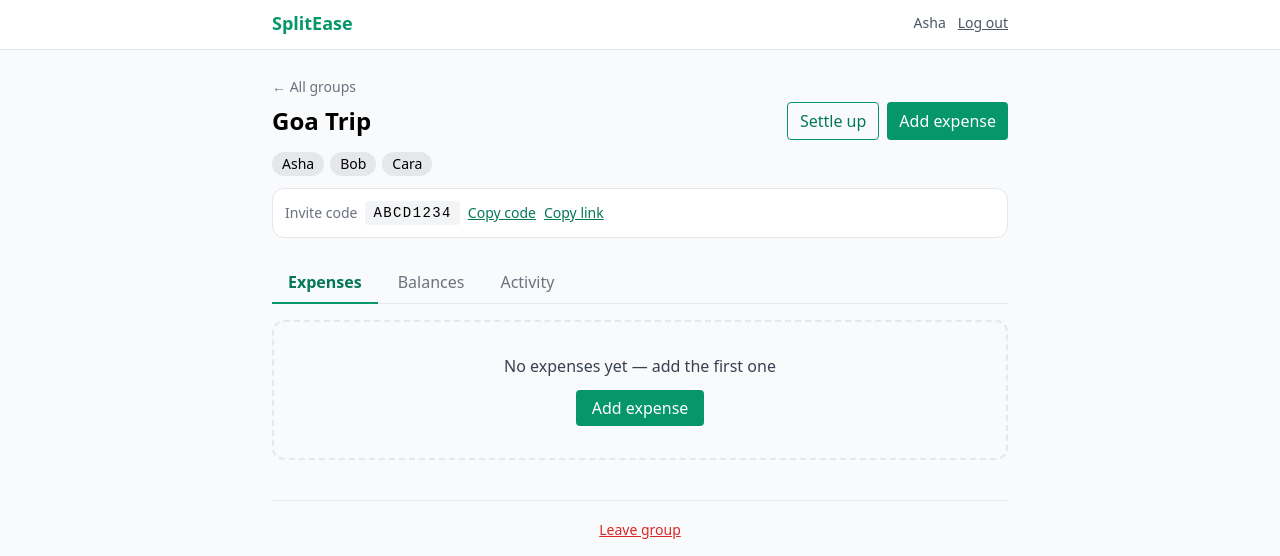
activity tab › shows expenses and settlements in one timeline
This screenshot has width=1280, height=556.
Click the tab "Activity" at (527, 283), box [484, 262, 570, 304]
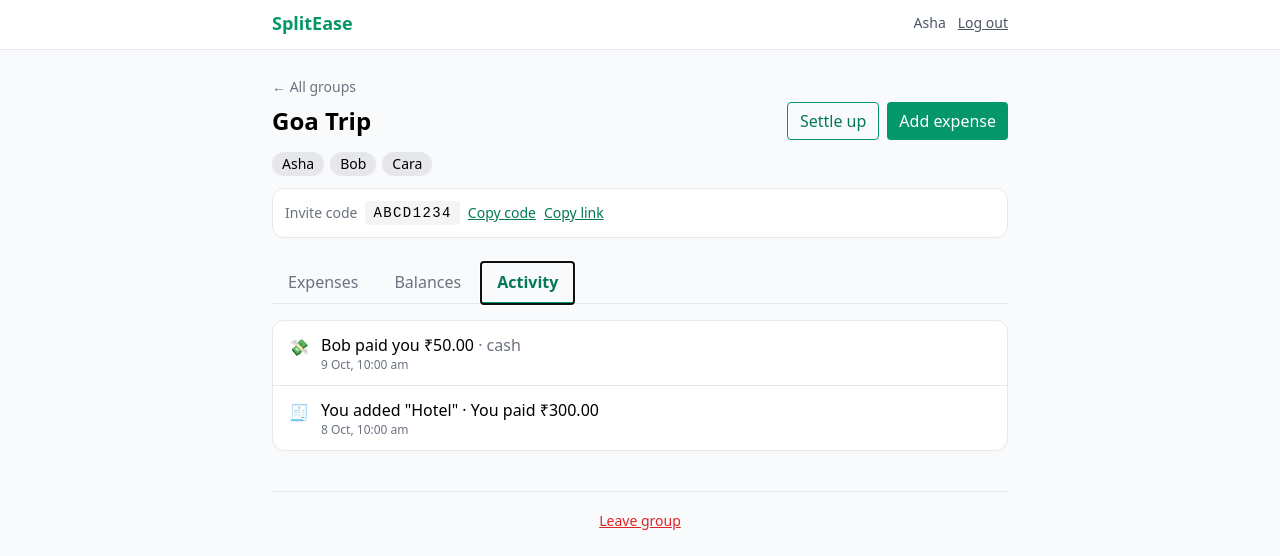
Now the text "Bob paid you ₹50.00 · cash" is shown, box [321, 333, 521, 357]
Now the text "· cash" is shown, box [474, 334, 521, 356]
Now the text "You added \"Hotel\" · You paid ₹300.00" is shown, box [321, 398, 599, 422]
